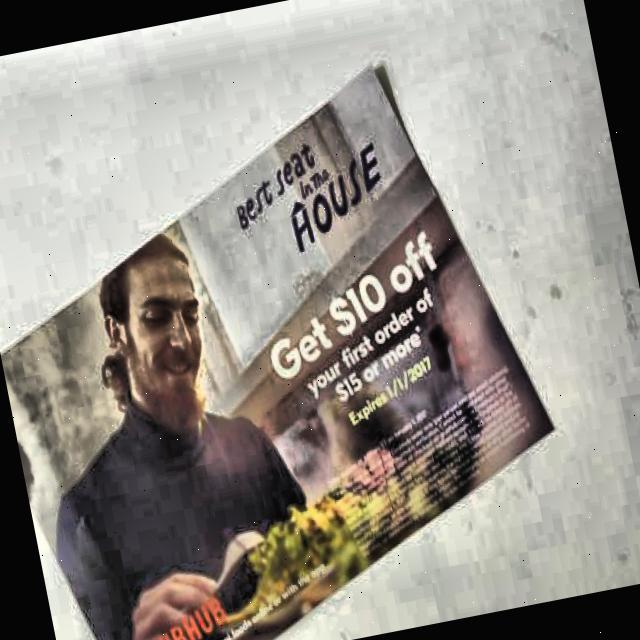paper: (0, 47, 563, 630)
